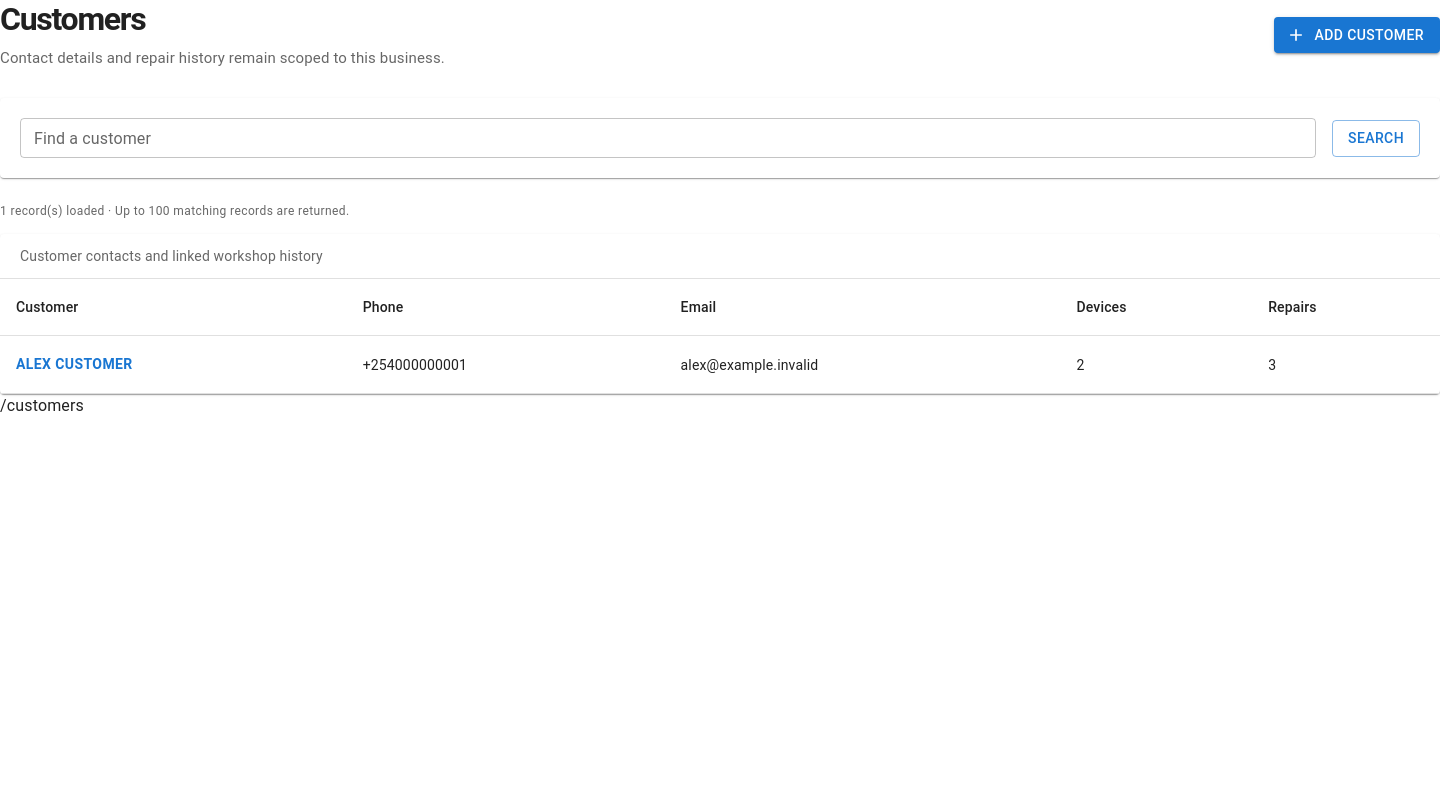
Scenario: permission-accurate operational directories › retains entered customer data after a failed save
Click the button "Add customer" at (1357, 35), box [1274,17,1439,53]
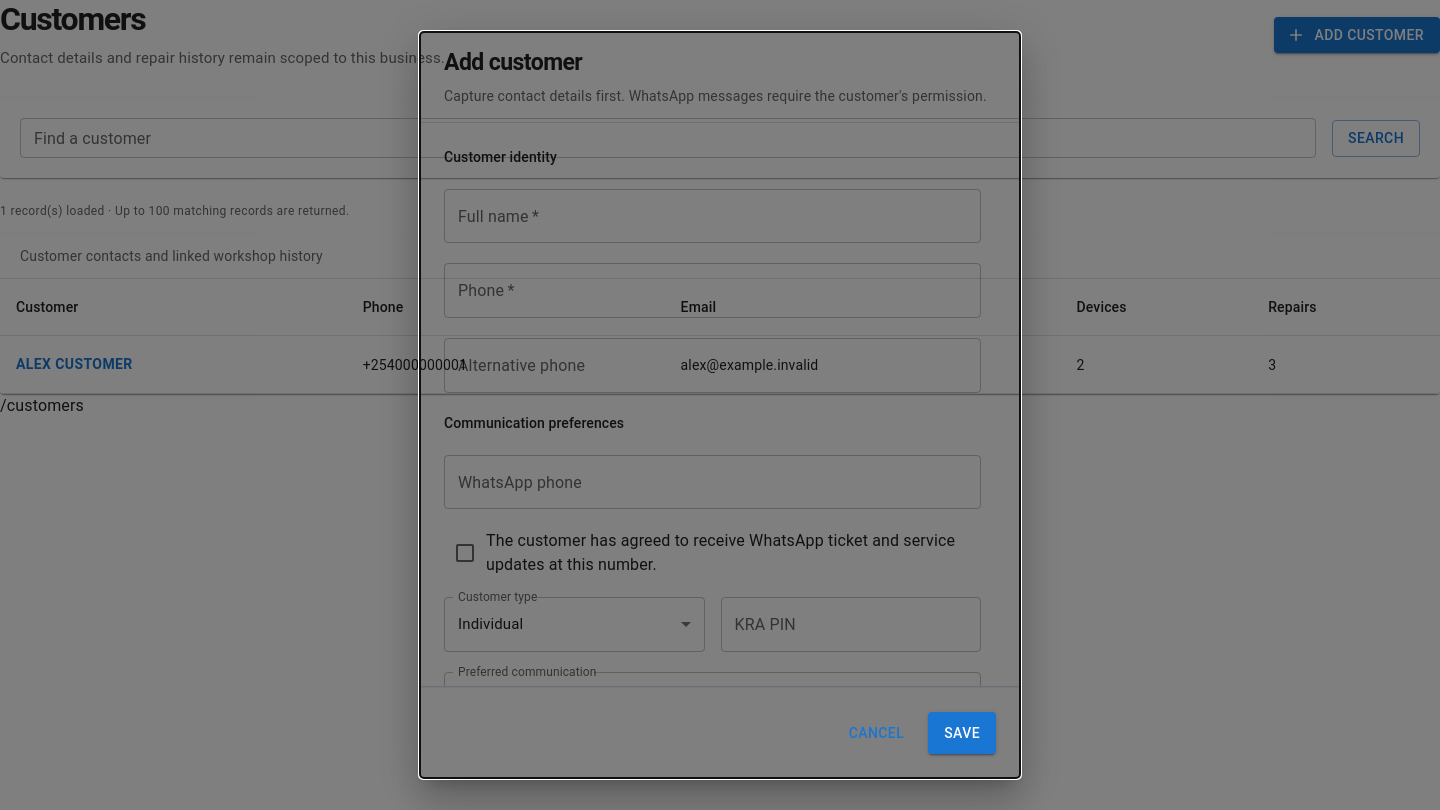
Type "New Demo Customer" into the field labelled "Full name *" at (712, 216), box [444,189,981,244]
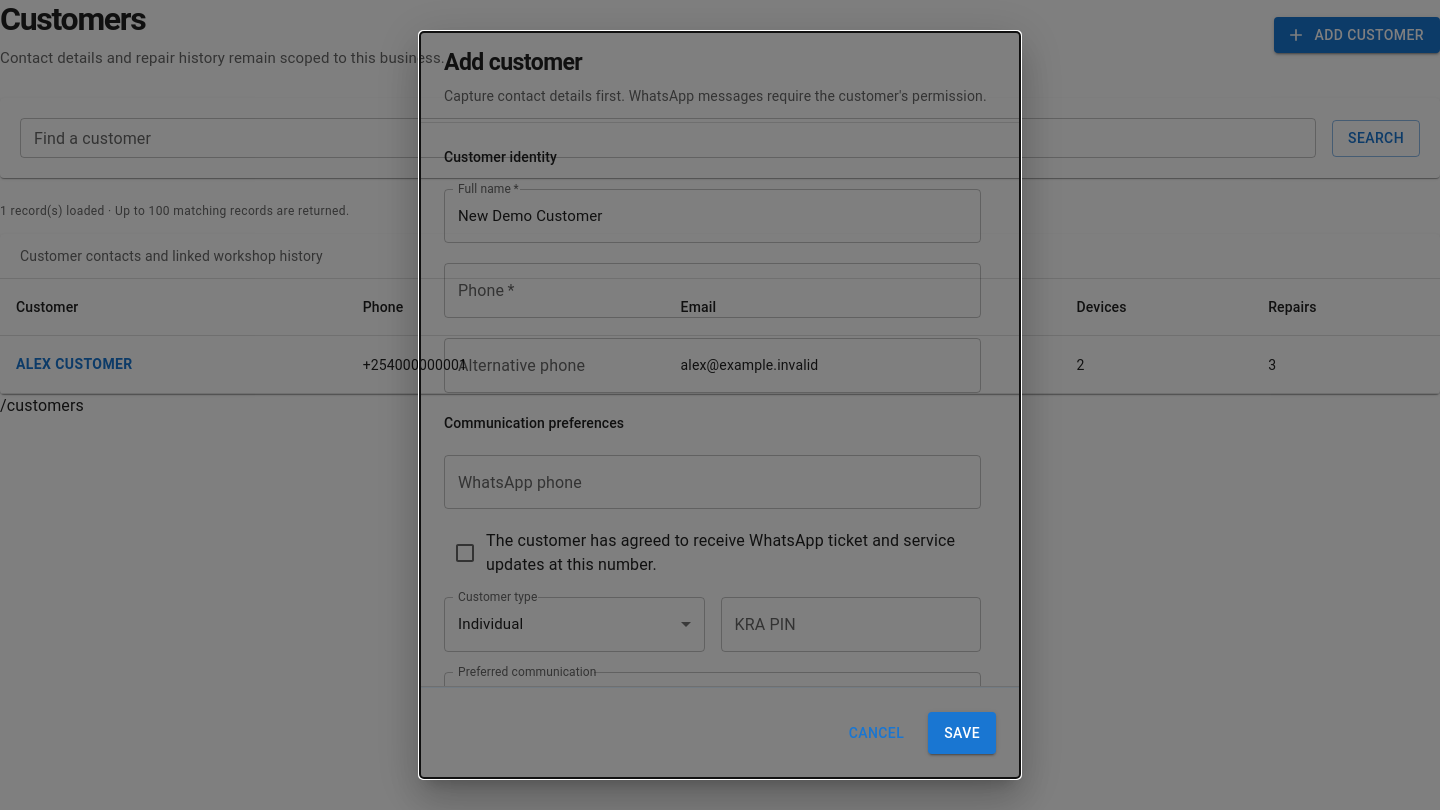
Type "+254000000099" into the field labelled "Phone *" at (712, 291), box [444,263,981,318]
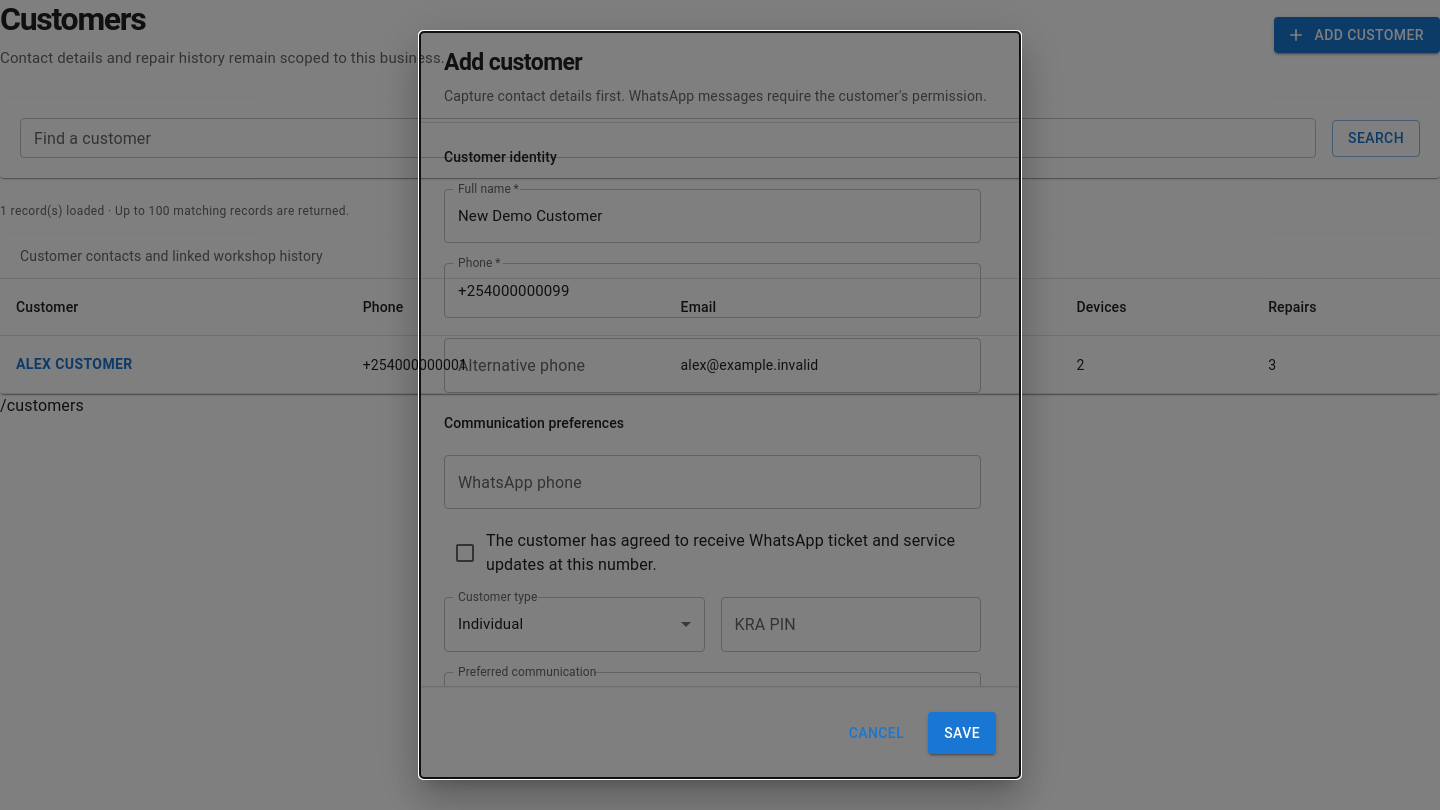
Click the button "Save" at (962, 733), box [928,712,996,754]
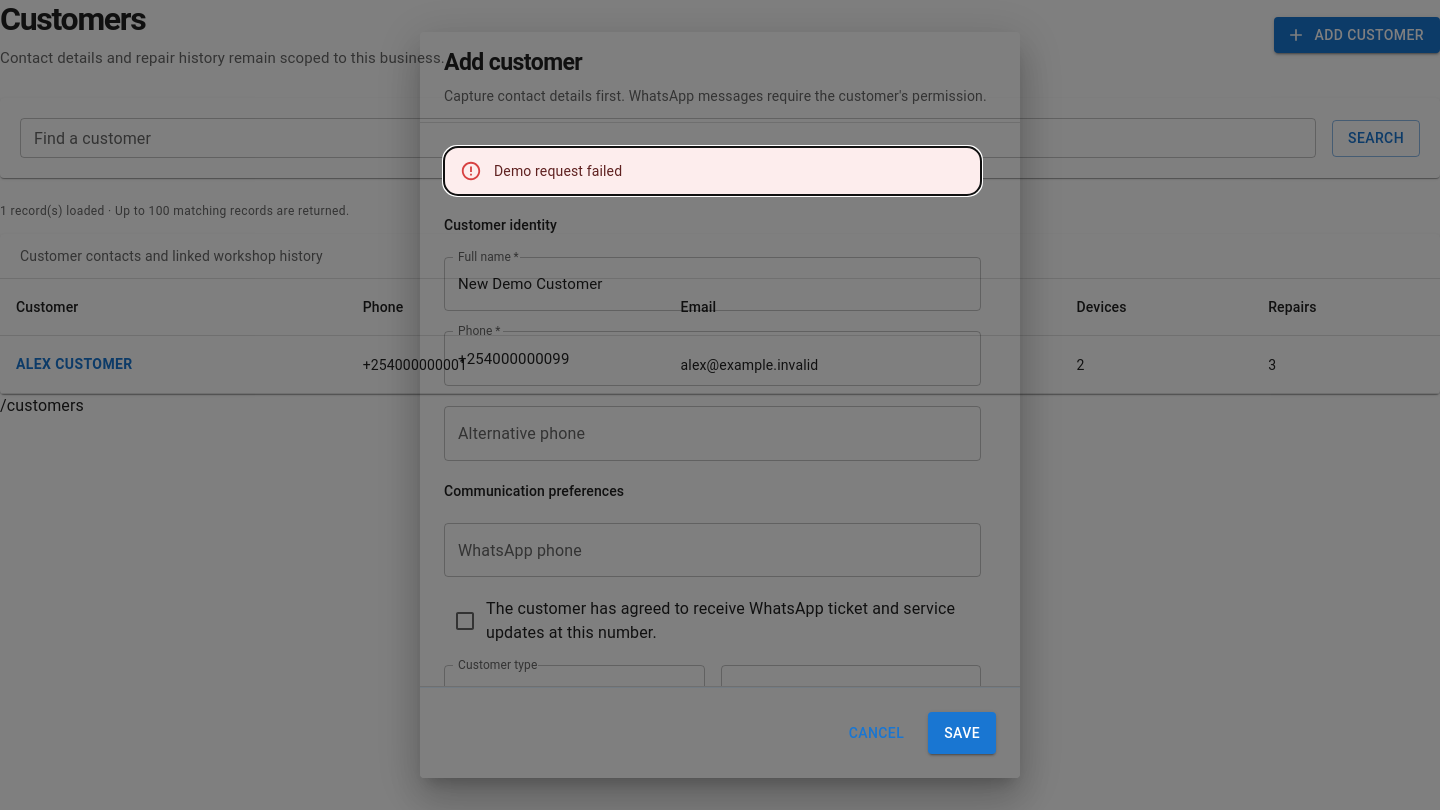
expect the text "Demo request failed" is shown: met, box [494,163,622,179]
